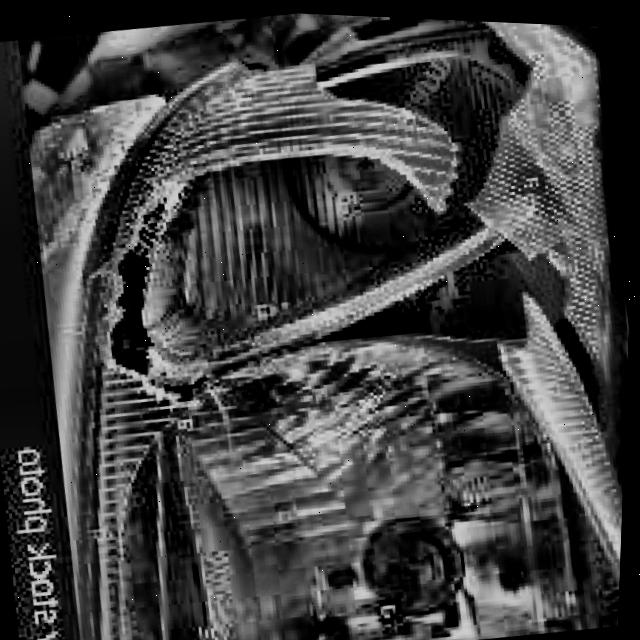head_lamp: (118, 31, 581, 421)
